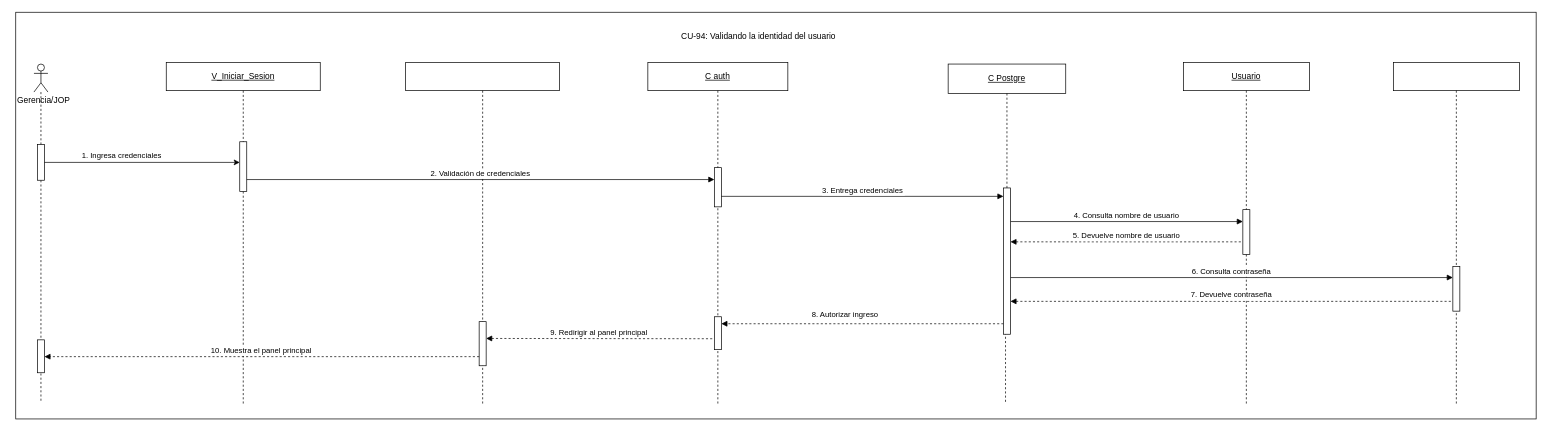
Image size: 1548x431. Some labels were removed from this diagram. The box of each missing label's shape, as (x1, y1, x2, y2) in pixels:
Usuario_Contraseña: (1393, 62, 1519, 404)
V_Dashboard: (405, 62, 560, 404)
